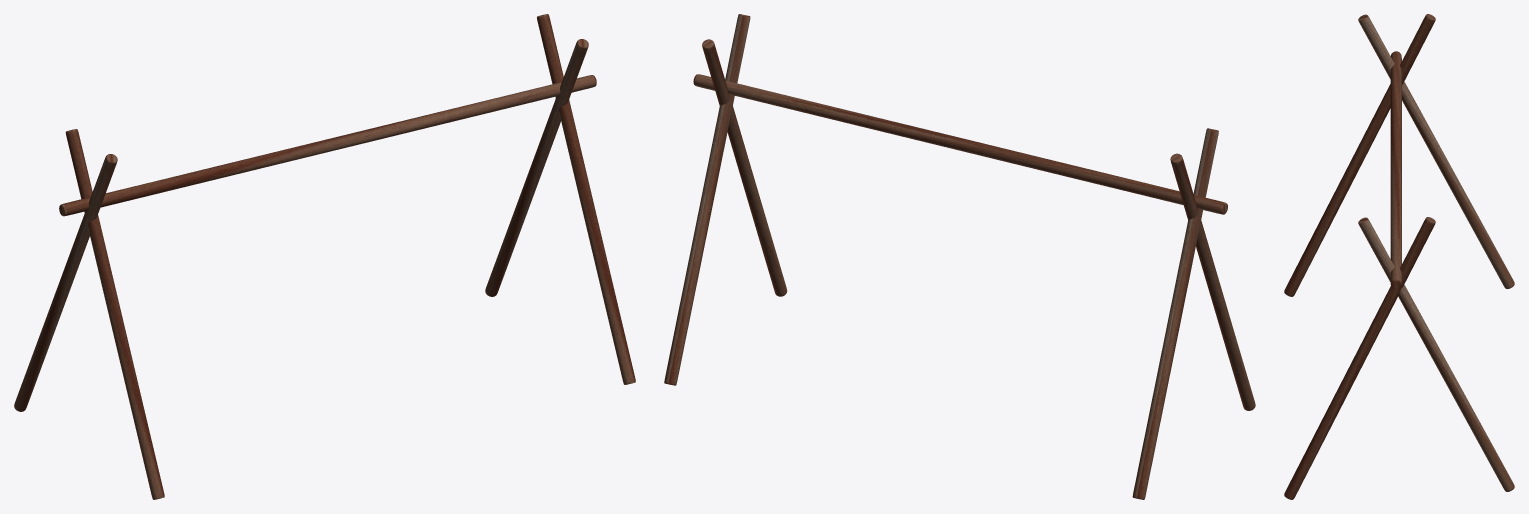
File: dryingRack.glb
3 renders of one model, left to right at view 1: azimuth 30°, elevation 25°; view 2: azimuth 150°, elevation 25°; view 3: azimuth 270°, elevation 25°, orthographic. The views are drawn at different scales.
Parts seen in each view (by area): view 1: pCylinder4, pCylinder5, pCylinder1, pCylinder2, pCylinder6; view 2: pCylinder4, pCylinder2, pCylinder6, pCylinder5, pCylinder1; view 3: pCylinder5, pCylinder2, pCylinder1, pCylinder6, pCylinder4.
Part boxes in pixels (x1,y1,x2,y2): pCylinder4: [59, 75, 596, 216]; pCylinder5: [537, 14, 635, 384]; pCylinder1: [65, 129, 164, 499]; pCylinder2: [485, 39, 588, 296]; pCylinder6: [14, 154, 117, 411]; pCylinder4: [693, 74, 1227, 214]; pCylinder2: [664, 14, 750, 385]; pCylinder6: [1132, 128, 1218, 499]; pCylinder5: [702, 39, 787, 296]; pCylinder1: [1170, 153, 1255, 410]; pCylinder5: [1284, 217, 1435, 499]; pCylinder2: [1358, 217, 1514, 491]; pCylinder1: [1284, 14, 1435, 296]; pCylinder6: [1358, 14, 1514, 288]; pCylinder4: [1390, 51, 1401, 289].
Size of the model in its own units: 13.21 by 7.48 by 5.62.
Materials: 1 (1 with a texture image).
